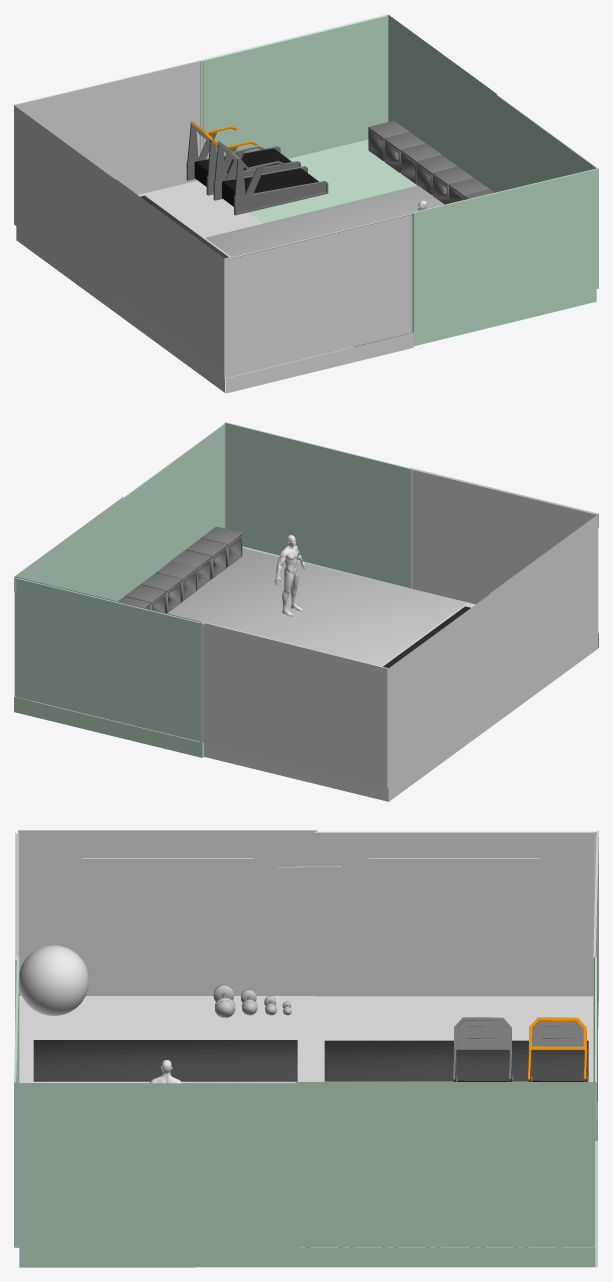
File: room1 (2).fbx
3 renders of one model, top to bottom at view 1: azimuth 30°, elevation 25°; view 2: azimuth 150°, elevation 25°; view 3: azimuth 270°, elevation 25°, orthographic. The views are drawn at different scales.
Visible parts, largest first — view 1: Room, Room.001, Blanket, Cube.007, Cube.003, Cube.005, Cube, Cube.006, Cube.004; view 2: Room, Room.001, Blanket, Cube.001, Cube.002, FinalBaseMesh, Blanket.002; view 3: Room.001, Room, Plane.003, Plane.002, Blanket.002, Blanket.001, Plane.001, Sphere.001, Cube, Cube.007, Cylinder.
Part boxes in pixels (left/top/right/bottom): Room: left=14, top=59, right=414, bottom=393; Room.001: left=199, top=14, right=598, bottom=346; Blanket: left=206, top=185, right=444, bottom=347; Cube.007: left=213, top=141, right=328, bottom=215; Cube.003: left=368, top=120, right=441, bottom=183; Cube.005: left=416, top=155, right=489, bottom=204; Cube: left=186, top=121, right=300, bottom=195; Cube.006: left=222, top=168, right=318, bottom=206; Cube.004: left=194, top=148, right=291, bottom=186; Room: left=200, top=467, right=598, bottom=801; Room.001: left=14, top=422, right=412, bottom=757; Blanket: left=167, top=548, right=466, bottom=666; Cube.001: left=170, top=526, right=242, bottom=589; Cube.002: left=125, top=561, right=197, bottom=613; FinalBaseMesh: left=274, top=535, right=305, bottom=616; Blanket.002: left=383, top=606, right=470, bottom=668; Room.001: left=14, top=955, right=597, bottom=1267; Room: left=15, top=830, right=598, bottom=1122; Plane.003: left=368, top=858, right=539, bottom=965; Plane.002: left=82, top=858, right=253, bottom=965; Blanket.002: left=33, top=1040, right=297, bottom=1081; Blanket.001: left=324, top=1040, right=588, bottom=1081; Plane.001: left=277, top=866, right=341, bottom=951; Sphere.001: left=19, top=945, right=89, bottom=1015; Cube: left=527, top=1017, right=588, bottom=1081; Cube.007: left=453, top=1017, right=513, bottom=1081; Cylinder: left=213, top=984, right=235, bottom=1017.
Size of the model in its own units: 1677 by 578 by 1649.
